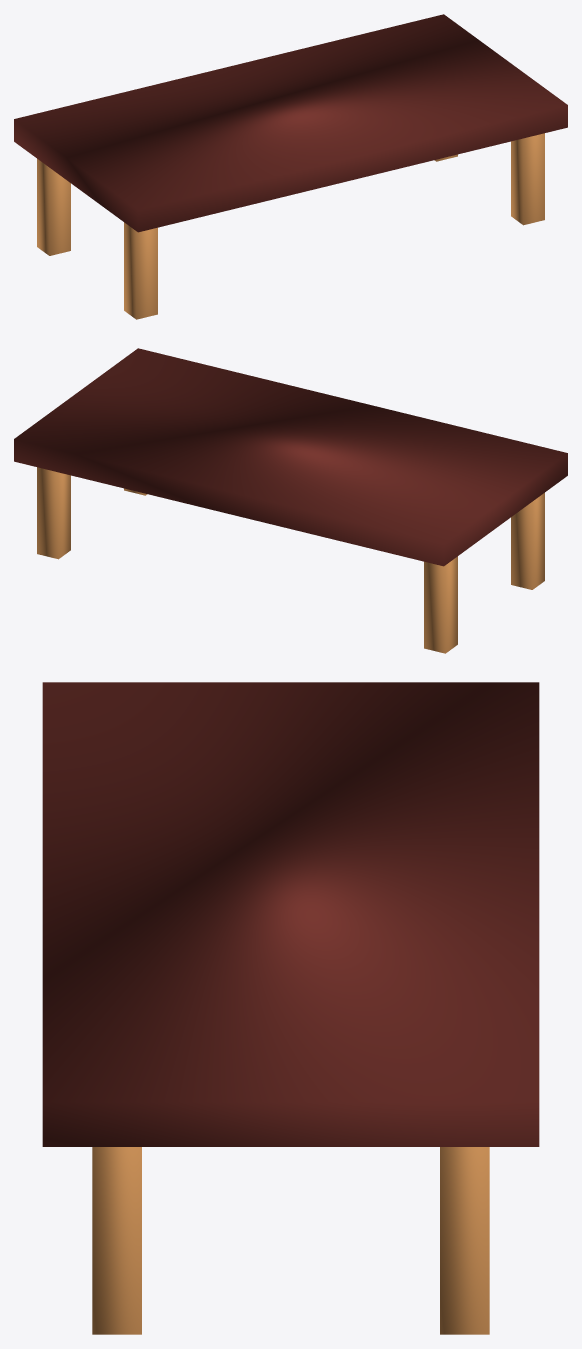
Rendered from TabelModel.fbx.
3 views of the same model, one above another, from view 1: azimuth 30°, elevation 25°; view 2: azimuth 150°, elevation 25°; view 3: azimuth 270°, elevation 25° (orthographic). The views are drawn at different scales.
Parts seen in each view (by area): view 1: Cube.002; view 2: Cube.002; view 3: Cube.002.
Part boxes in pixels (x1,y1,x2,y2): Cube.002: (14,14,567,319); Cube.002: (14,348,567,653); Cube.002: (42,682,539,1334).
Bounding box in the file's own units: 400 × 108 × 200.
